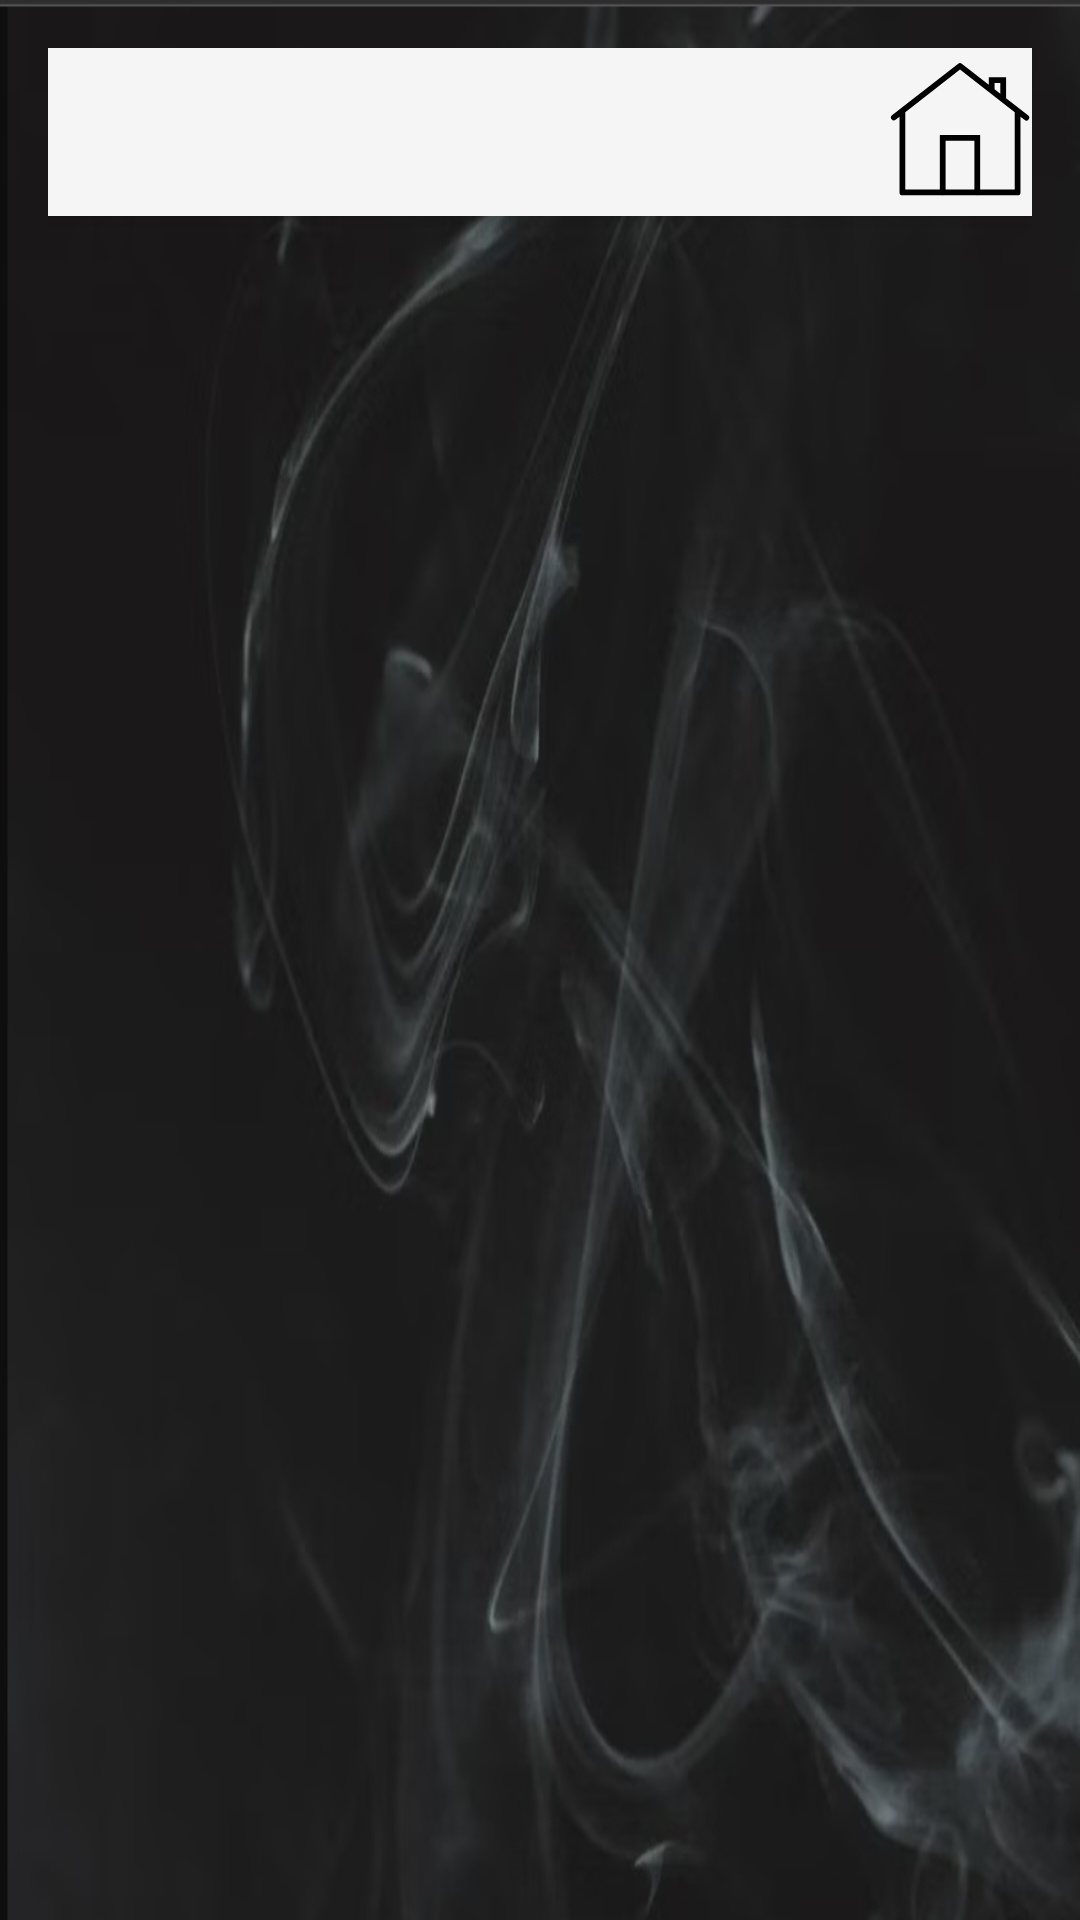

Named icons in this screenshot (1080 × 1920) and their centers, (x=x, y=y):
Go to home activity: (x=960, y=129)
